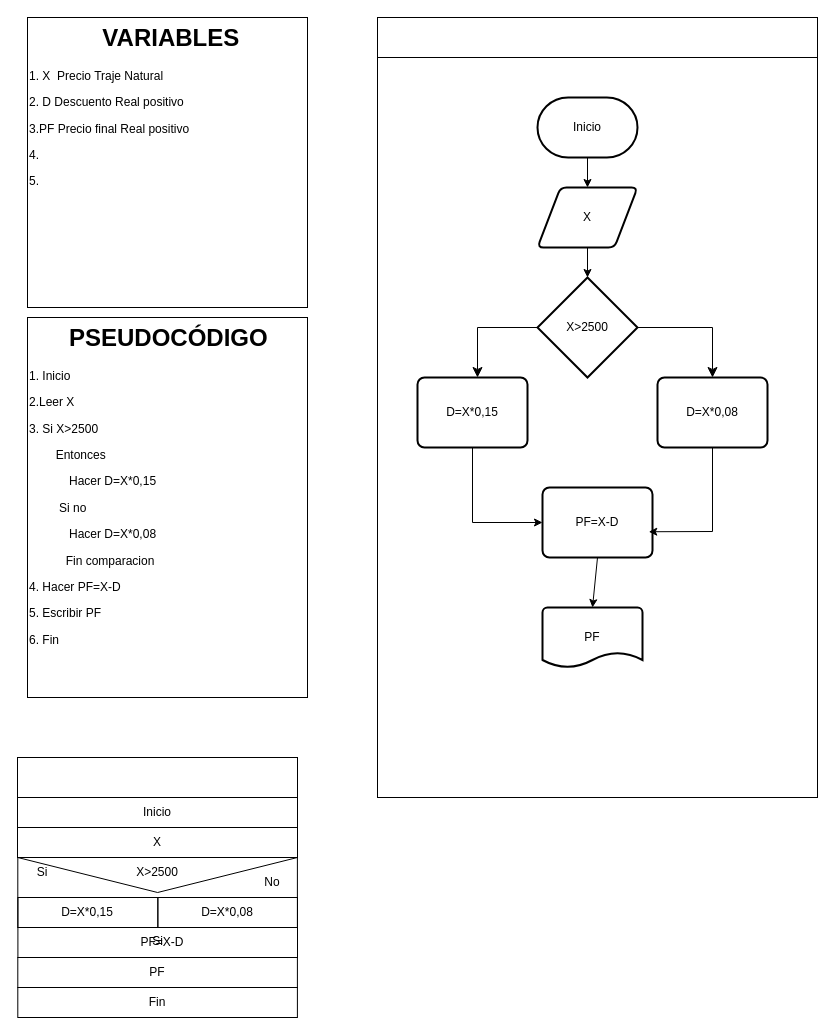
Image size: 835x1035. Some labels were removed from this diagram. The shapes that lost their labels are listed below. From the top down, each one's centre as x and y in pixels, then its label:
point 597,37: DIAGRAMA DE FLUJO
point 157,777: DIAGRAMA N/S .
